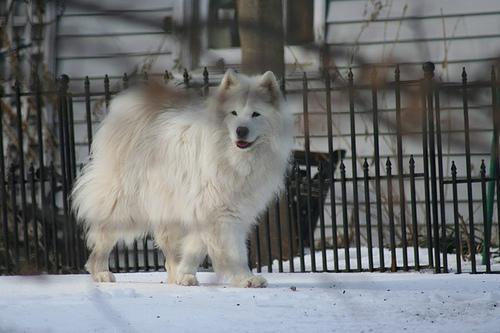dog-samoyed: (216, 67, 281, 151)
